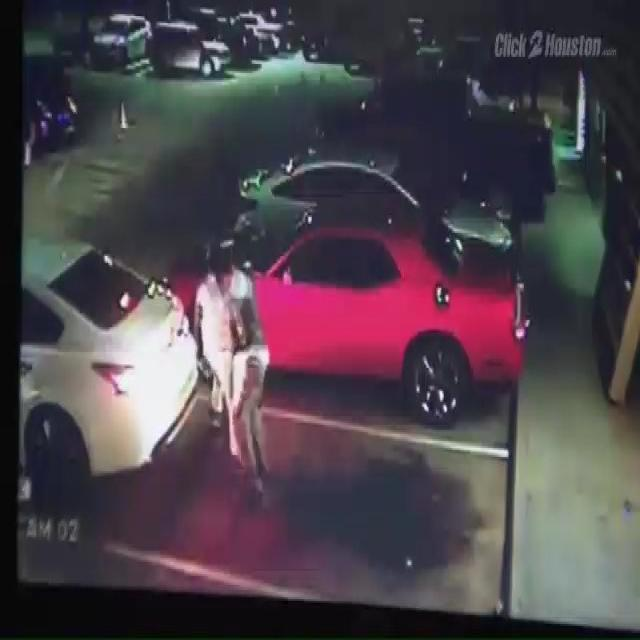fight: (192, 238, 276, 495)
